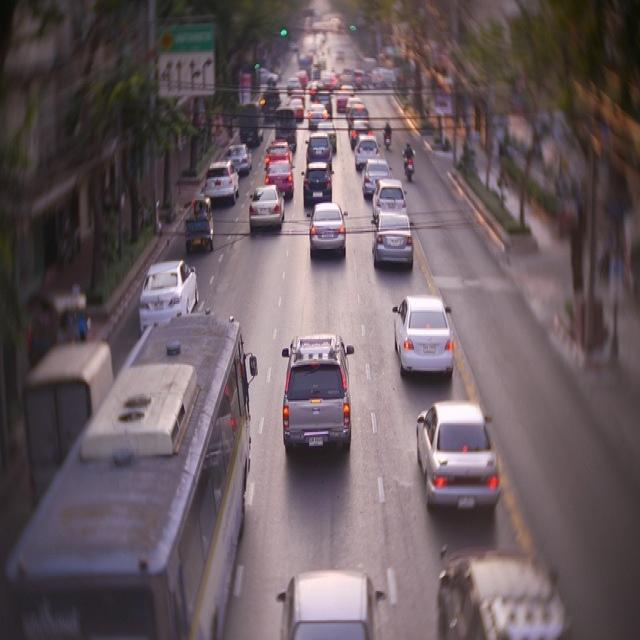Carro Branco: (393, 294, 454, 378), (137, 258, 203, 330), (205, 160, 238, 202), (352, 133, 382, 166)
Carro Cinza: (304, 132, 332, 166)
Carro Prata: (408, 391, 507, 547), (278, 324, 356, 458), (275, 563, 386, 640), (308, 200, 359, 262), (370, 210, 414, 274), (246, 182, 290, 223), (372, 179, 409, 214), (225, 141, 252, 174), (364, 159, 389, 194)
Carro Preto: (434, 547, 576, 640), (301, 163, 333, 199)
Carro Vermelho: (264, 162, 294, 194), (263, 139, 292, 167)
Onibus: (0, 304, 257, 634)
